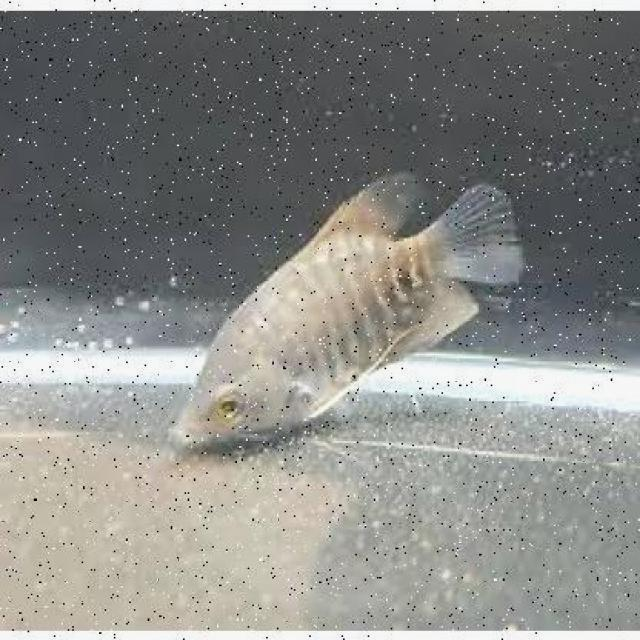gurame: (162, 163, 524, 449)
